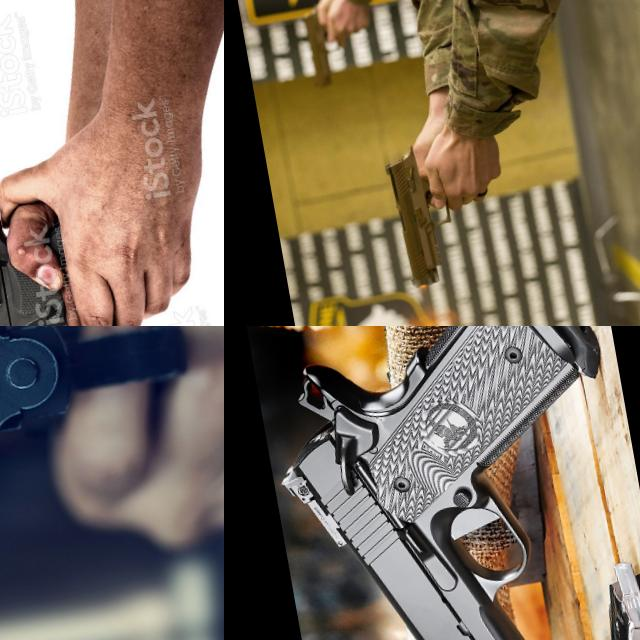handgun: (246, 326, 640, 640), (0, 326, 207, 464), (0, 196, 109, 326), (376, 134, 462, 292)
